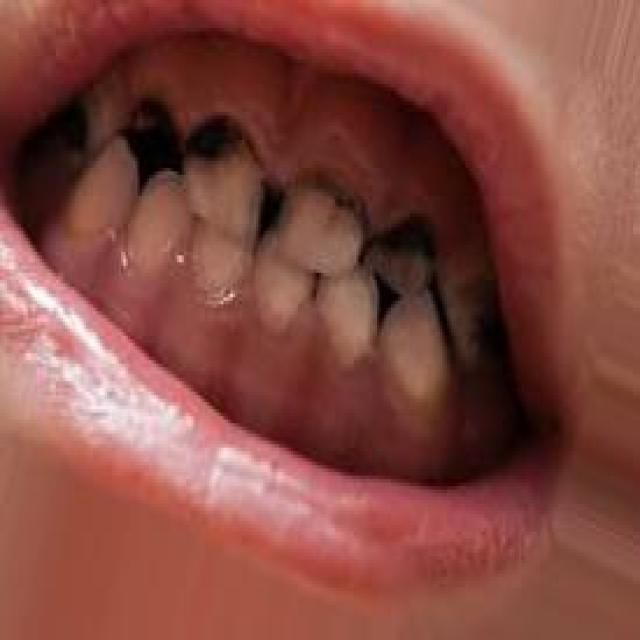caries: (180, 102, 271, 247), (365, 200, 442, 306), (292, 160, 371, 250), (128, 84, 184, 169)
